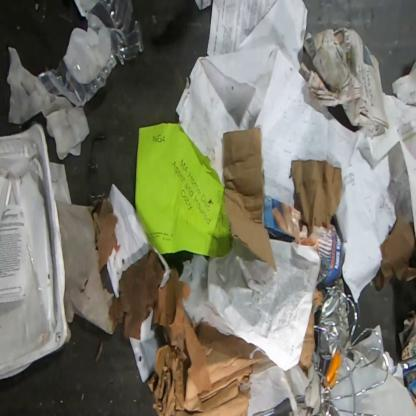cardboard: (147, 268, 270, 415), (222, 125, 277, 274), (298, 288, 323, 370)
metal: (311, 278, 390, 415), (400, 343, 415, 378)
rigid_plastic: (0, 123, 67, 379), (36, 0, 145, 107)
